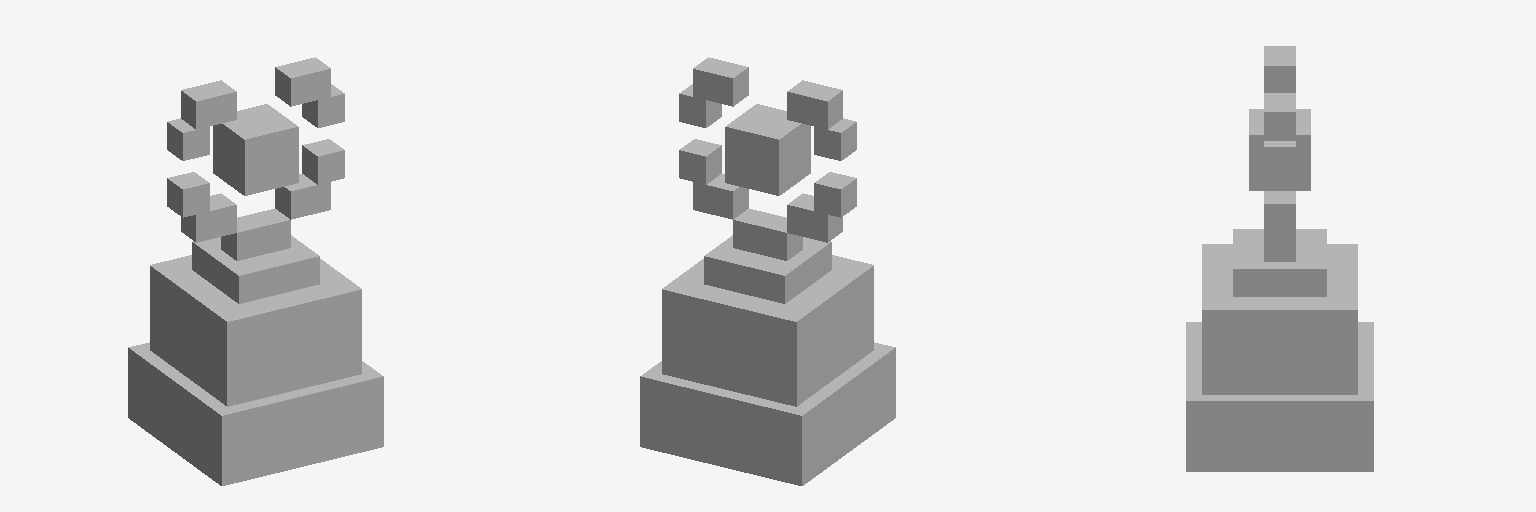
File: keystone.obj
The picture shows the model from 3 angles: view 1: azimuth 30°, elevation 25°; view 2: azimuth 150°, elevation 25°; view 3: azimuth 270°, elevation 25°; orthographic projection.
Visible parts, largest first — view 1: cube; view 2: cube; view 3: cube.
Part boxes in pixels (x1,y1,x2,y2): cube: (128,57,383,485); cube: (640,57,895,485); cube: (1186,46,1373,471).
Size of the model in its own units: 0.3 by 0.625 by 0.3.